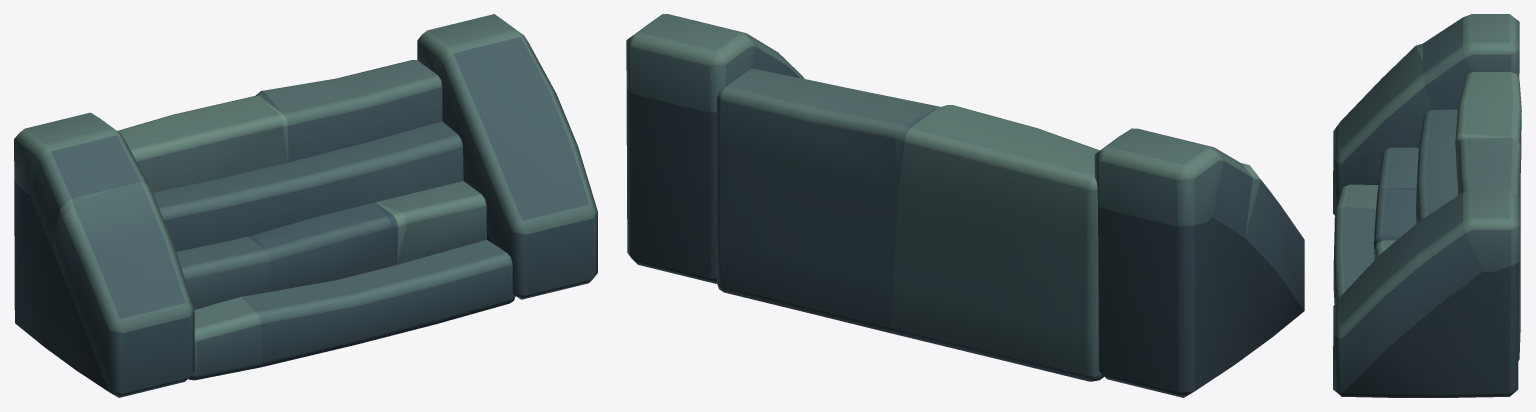
Rendered from stairs_set_02_LOD_setup.fbx.
3 renders of one model, left to right at view 1: azimuth 30°, elevation 25°; view 2: azimuth 150°, elevation 25°; view 3: azimuth 270°, elevation 25°, orthographic. The views are drawn at different scales.
Parts seen in each view (by area): view 1: stairs_set_02_LOD0; view 2: stairs_set_02_LOD0; view 3: stairs_set_02_LOD0.
Part boxes in pixels (left/top/right/bottom): stairs_set_02_LOD0: left=14, top=14, right=597, bottom=397; stairs_set_02_LOD0: left=626, top=14, right=1304, bottom=397; stairs_set_02_LOD0: left=1333, top=14, right=1521, bottom=397.
Size of what is drawn, in the model's own units: 308 by 121 by 114.
